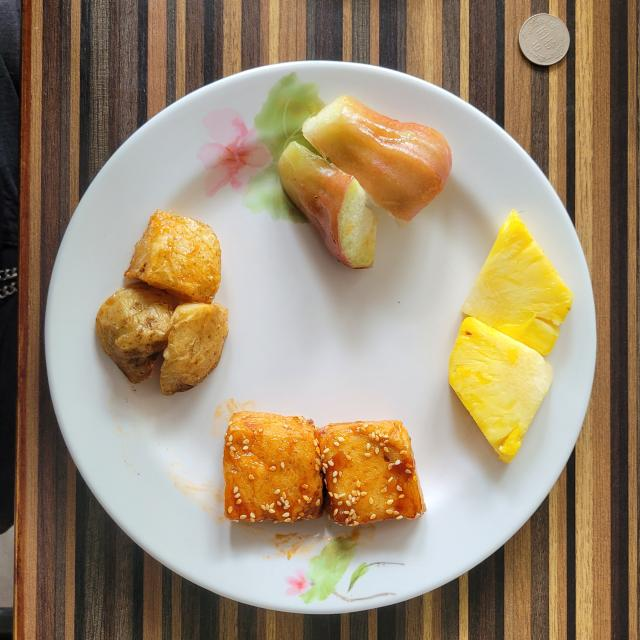coin: (519, 14, 570, 65)
creamy tofu: (222, 411, 425, 526)
fried potato: (96, 210, 228, 395)
pineapple: (449, 210, 574, 462)
